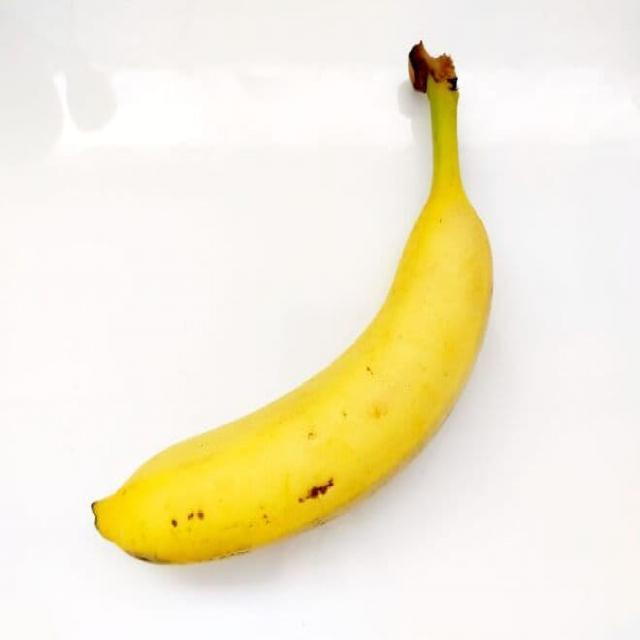Banana: (86, 43, 496, 574)
